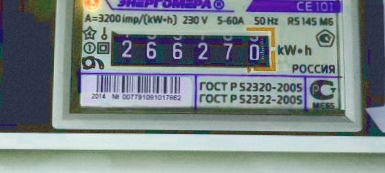0: (246, 41, 260, 61)
2: (119, 37, 132, 58), (196, 40, 209, 60)
6: (144, 39, 156, 60), (170, 40, 183, 59)
7: (222, 40, 232, 60)
screen: (98, 20, 281, 77)
